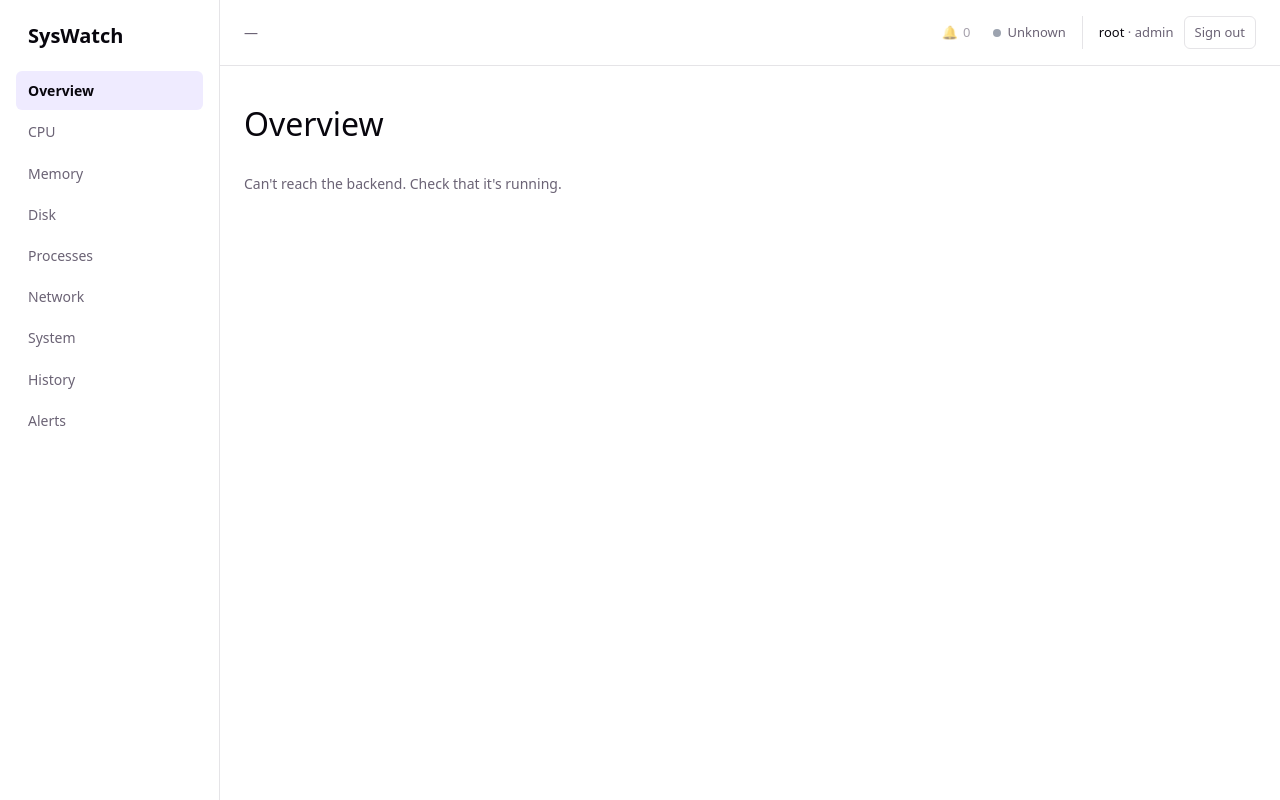
Test: AppRoutes › navigates between sections without a full page reload
Click the link "Memory" at (56, 173), box x1=28 y1=164 x2=83 y2=183
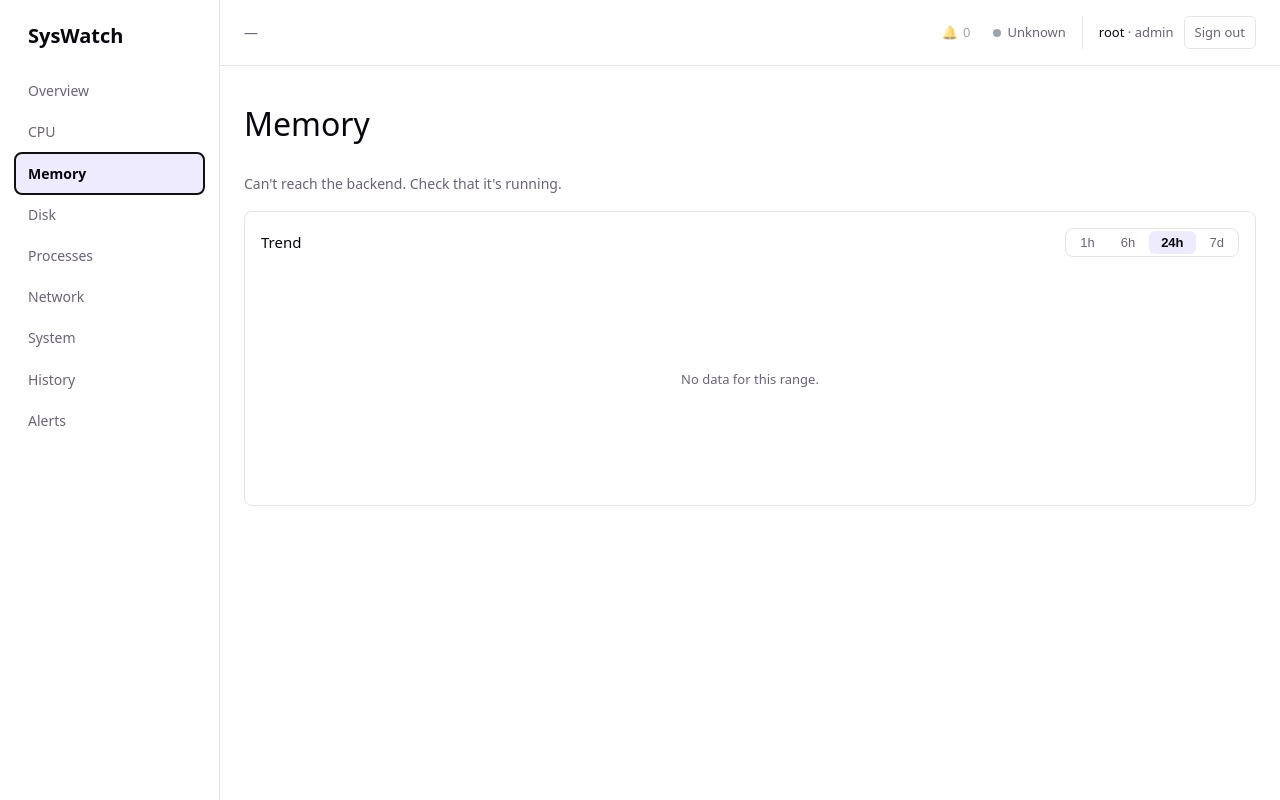
Result: the heading "Memory" is shown at x1=244 y1=102 x2=370 y2=145
